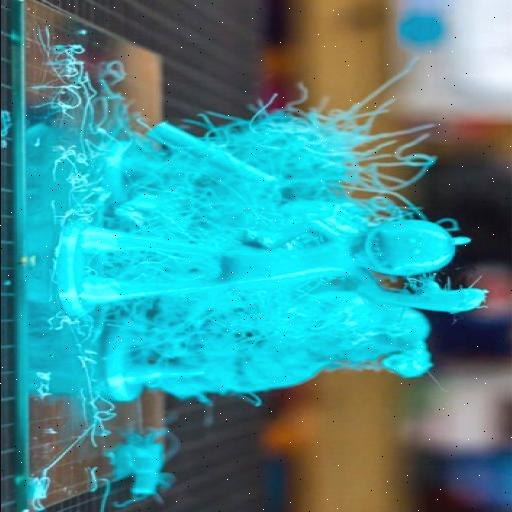spaghetti: (226, 107, 430, 225), (106, 292, 394, 350), (30, 22, 102, 116), (46, 142, 108, 222)
